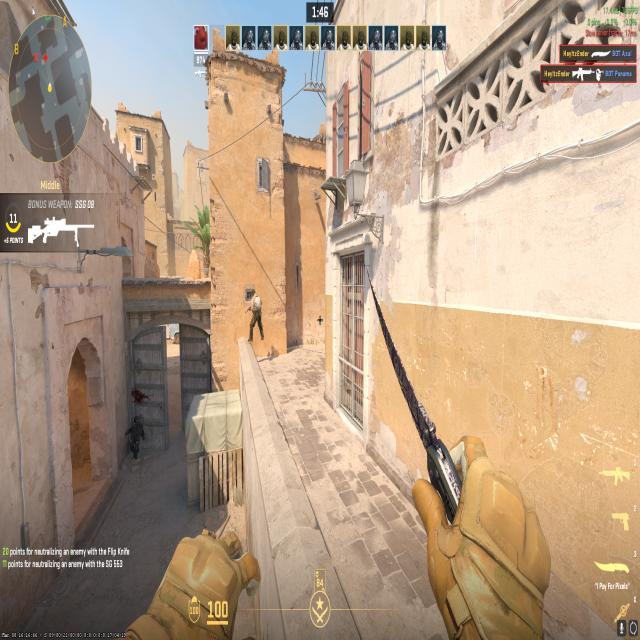t: (245, 283, 266, 342)
